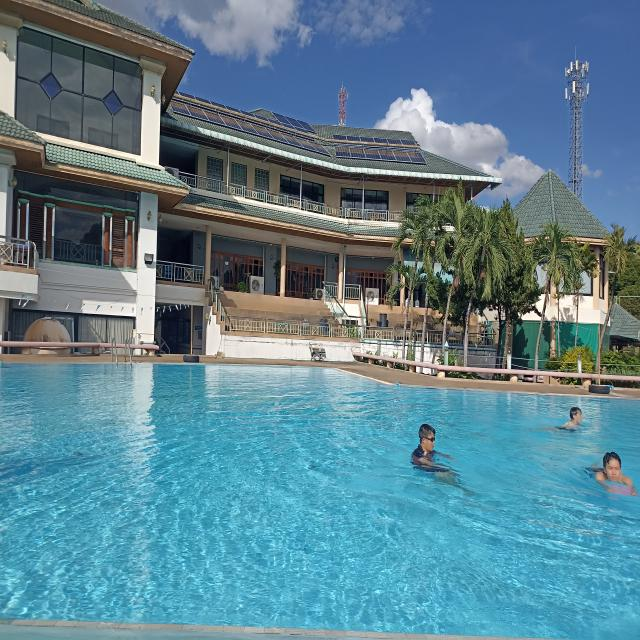Swimming: (410, 418, 474, 488), (584, 447, 640, 500), (542, 401, 592, 436)
